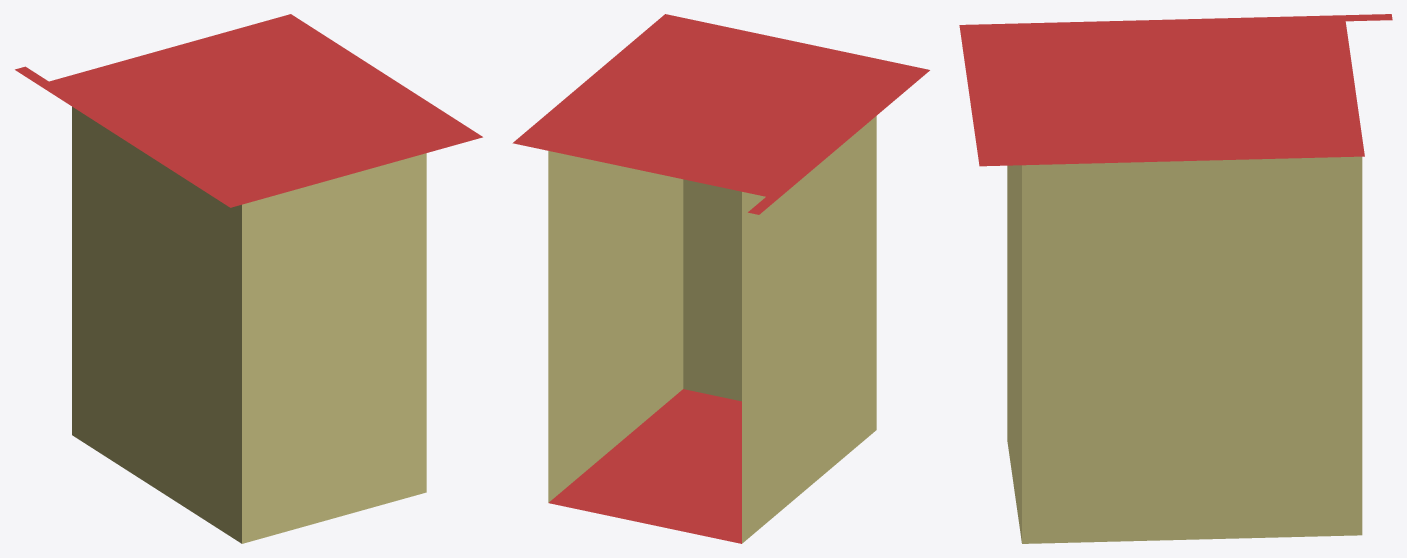
3 renders of one model, left to right at view 1: azimuth 30°, elevation 25°; view 2: azimuth 150°, elevation 25°; view 3: azimuth 270°, elevation 25°, orthographic. The views are drawn at different scales.
Size of the model in its own units: 5.97 by 7.17 by 7.27.
